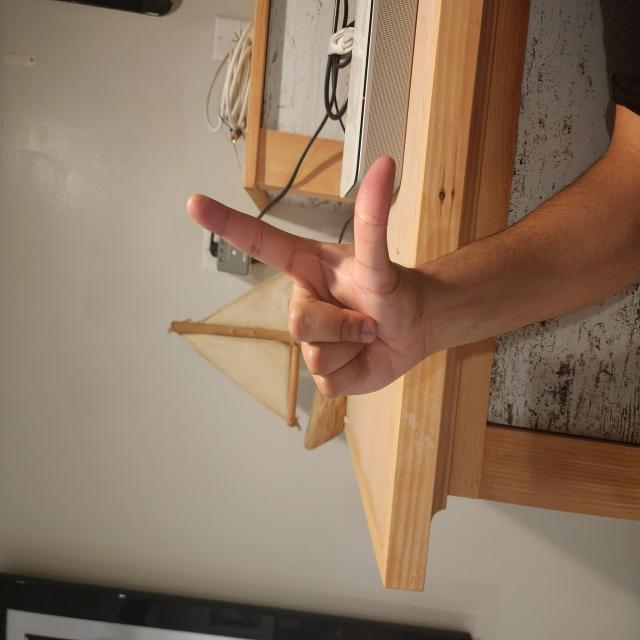L: (178, 241, 366, 577)
